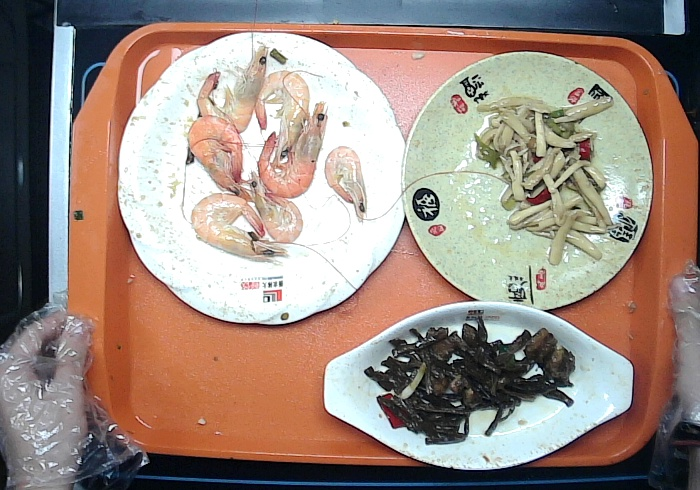NLDX-Bai_Zhe_Yuan_Pan: (113, 28, 414, 336)
NLDX-Fu_Zi_Yuan_Pan: (397, 47, 657, 315)
NLDX-Yu_Pan: (320, 297, 638, 472)
